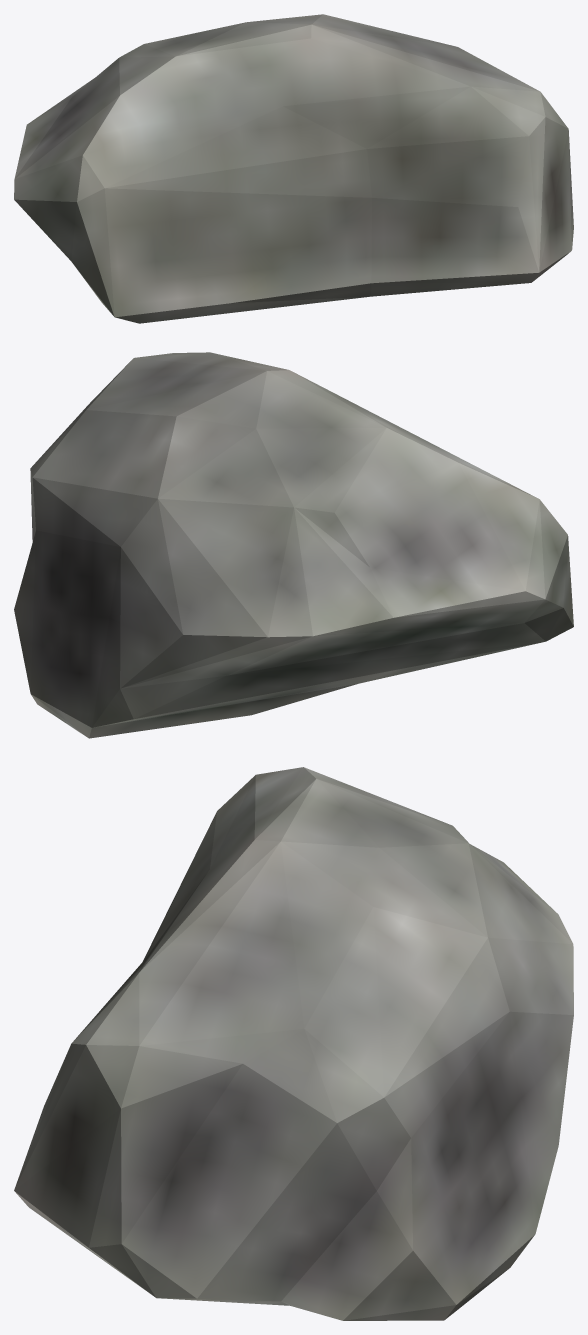
File: rock_03.obj
3 renders of one model, top to bottom at view 1: azimuth 30°, elevation 25°; view 2: azimuth 150°, elevation 25°; view 3: azimuth 270°, elevation 25°, orthographic. The views are drawn at different scales.
Bounding box in the file's own units: 0.0483 × 0.0276 × 0.0362.
Materials: 1 (1 with a texture image).
